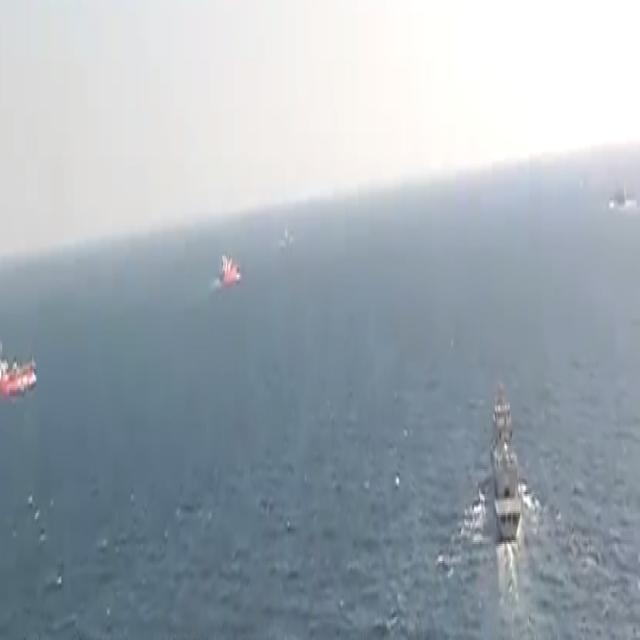cargoship: (491, 382, 522, 547), (0, 346, 40, 403), (214, 235, 241, 292), (606, 173, 634, 222)
